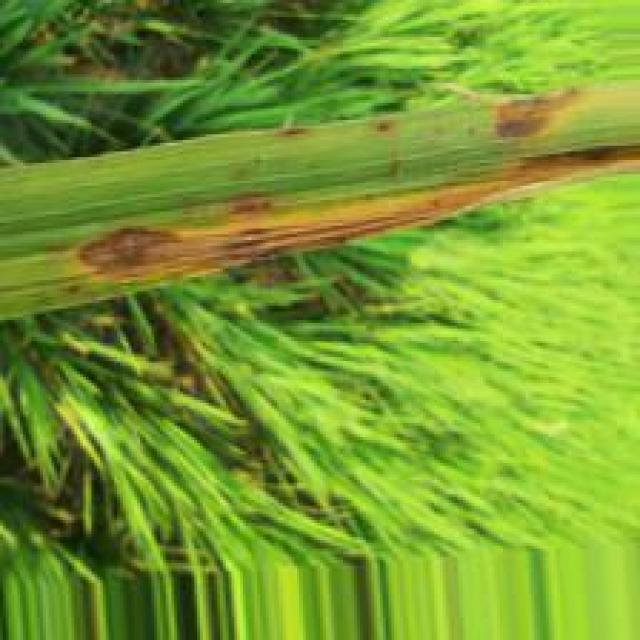Leaf_Blast: (60, 145, 637, 284), (493, 87, 590, 143), (216, 190, 282, 222)
